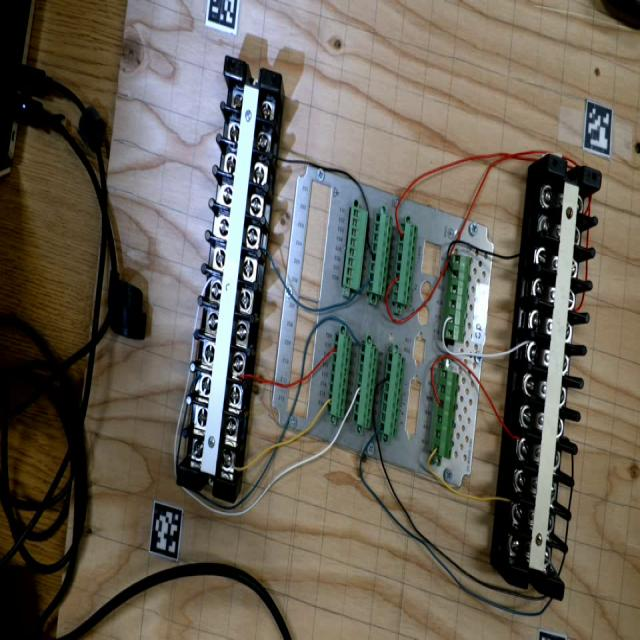Flathead_Block: (509, 154, 603, 601)
Phillips_Block: (175, 56, 284, 504)
Terminal_1: (430, 368, 459, 459), (444, 255, 472, 343)
Terminal_2: (351, 342, 379, 429), (378, 351, 406, 437), (366, 211, 394, 297), (391, 222, 419, 306), (326, 332, 353, 418)
